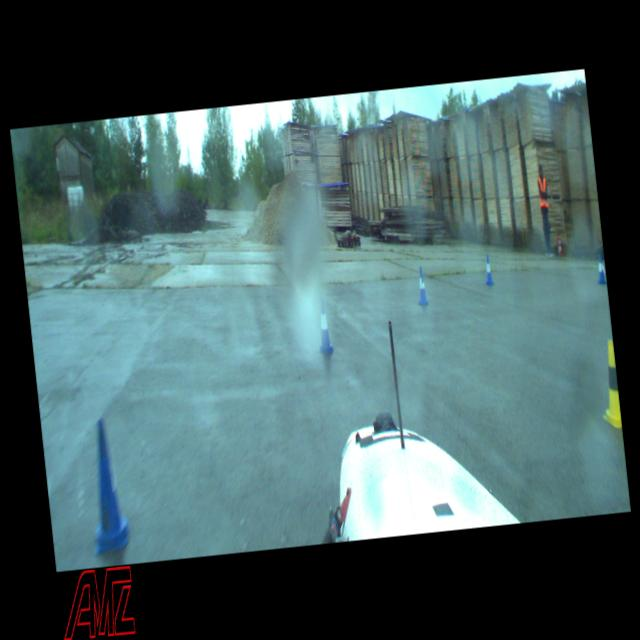blue_cone: (80, 417, 131, 552), (312, 296, 334, 352), (414, 266, 428, 304), (594, 252, 606, 284), (482, 254, 493, 284)
yellow_cone: (595, 340, 621, 428)
